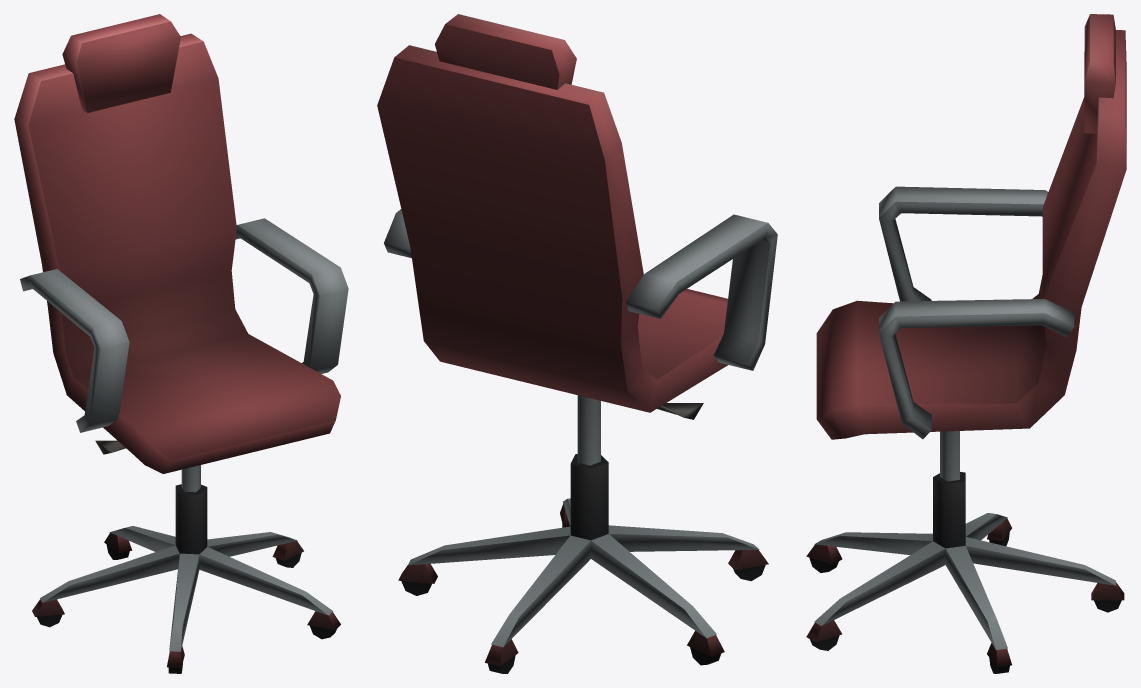
File: TSP_Chair_Desk_01A.fbx
3 renders of one model, left to right at view 1: azimuth 30°, elevation 25°; view 2: azimuth 150°, elevation 25°; view 3: azimuth 270°, elevation 25°, orthographic. The views are drawn at different scales.
Parts seen in each view (by area): view 1: TSP_Chair_Desk_01A; view 2: TSP_Chair_Desk_01A; view 3: TSP_Chair_Desk_01A.
Part boxes in pixels (x1,y1,x2,y2): TSP_Chair_Desk_01A: (14,14,348,673); TSP_Chair_Desk_01A: (377,14,777,673); TSP_Chair_Desk_01A: (806,14,1126,673).
Size of the model in its own units: 0.7302 by 1.38 by 0.6995.
